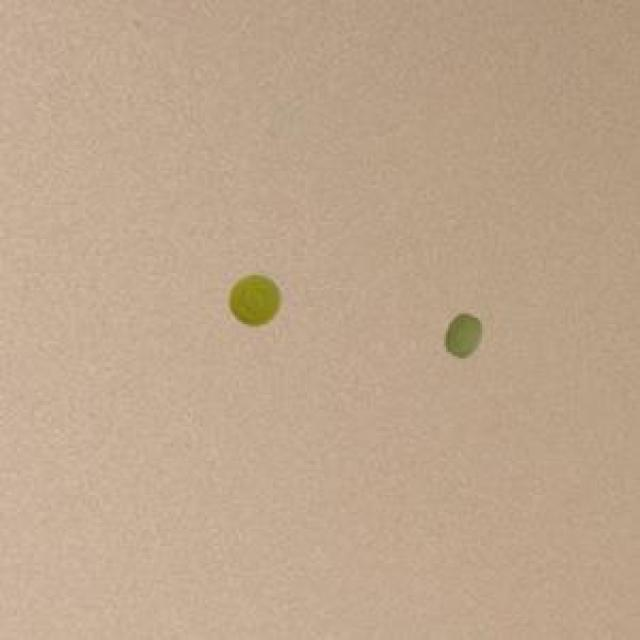Decolgen: (435, 300, 497, 382), (224, 264, 287, 342)
